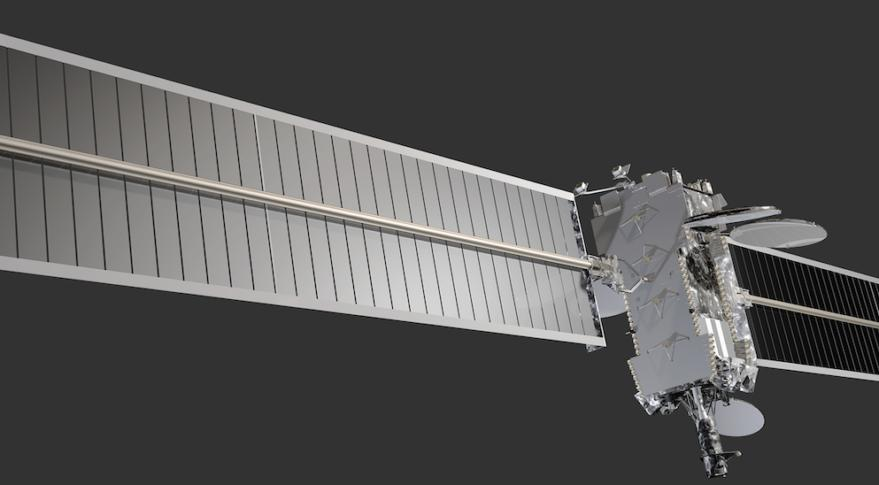antenna: (729, 218, 826, 250), (696, 398, 766, 438), (680, 204, 782, 231), (583, 263, 630, 321), (645, 330, 682, 365), (619, 205, 655, 237), (636, 290, 675, 319), (630, 243, 663, 269)
body: (586, 160, 746, 416)
solar: (0, 29, 612, 355), (720, 229, 879, 382)
